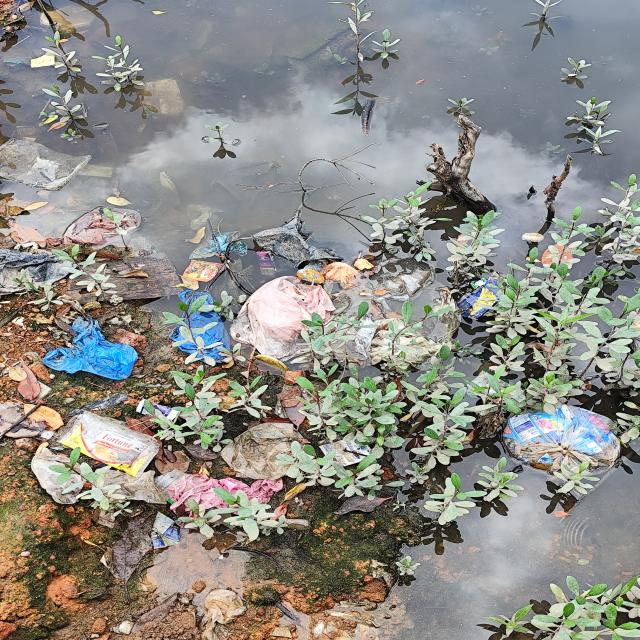Bungkus Minuman: (183, 259, 231, 284), (296, 259, 329, 287)
Kantong Plastik: (350, 261, 463, 372), (234, 276, 341, 364), (1, 141, 94, 194), (175, 291, 237, 363), (63, 205, 142, 249)
